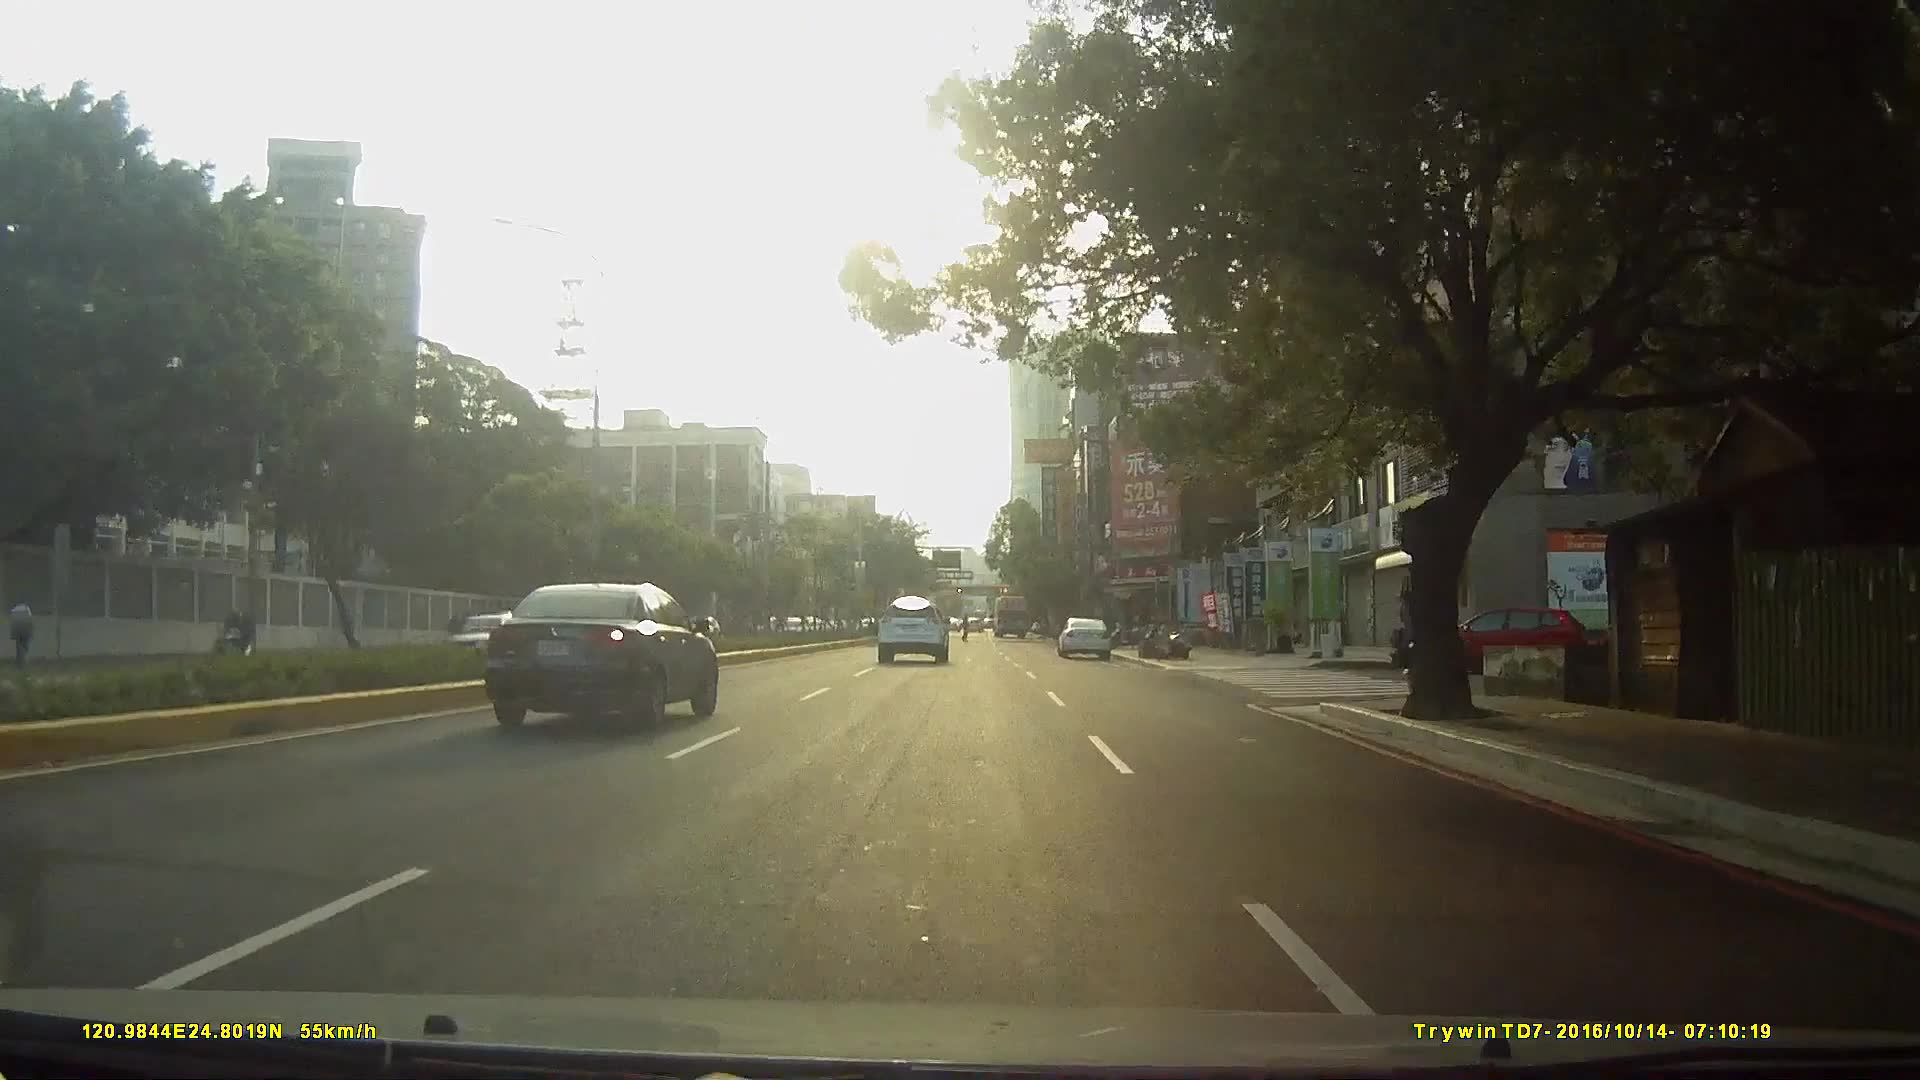pedestrian: (9, 601, 37, 666)
rider: (212, 610, 257, 671)
vehicle: (485, 581, 722, 731), (1405, 600, 1604, 683), (440, 613, 540, 669), (875, 598, 948, 667), (1056, 617, 1115, 660), (988, 594, 1031, 640)
